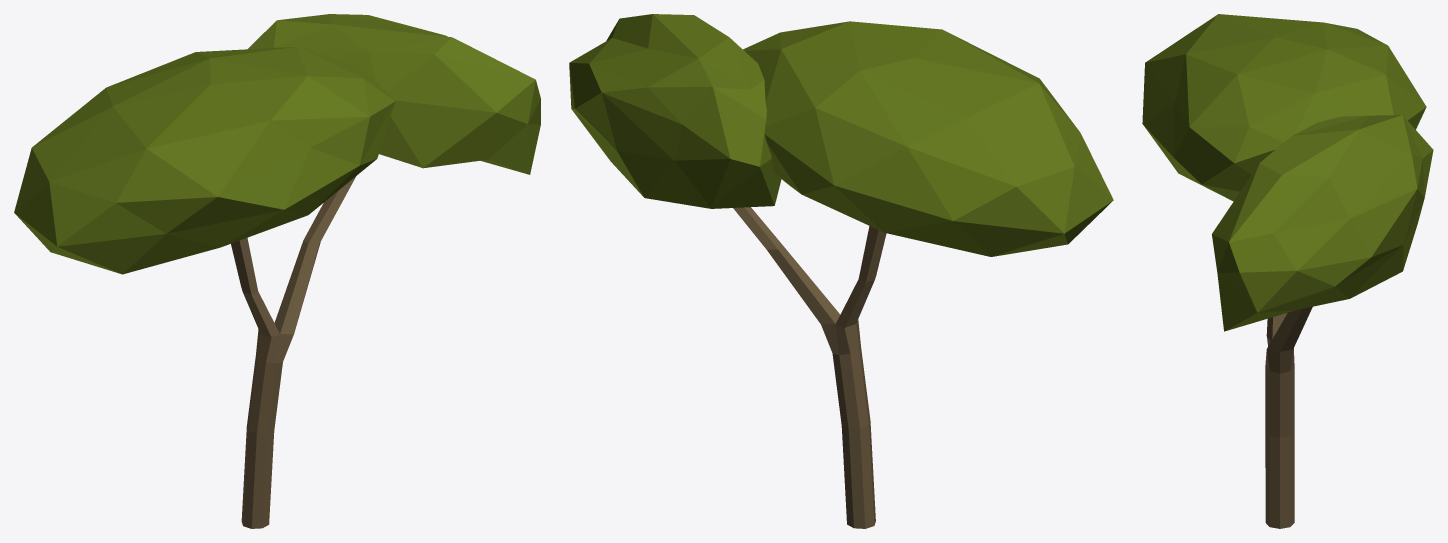
Rendered from roman_tree_pine_1.fbx.
3 views of the same model, side by side, from view 1: azimuth 30°, elevation 25°; view 2: azimuth 150°, elevation 25°; view 3: azimuth 270°, elevation 25° (orthographic). The views are drawn at different scales.
Visible parts, largest first — view 1: Cylinder; view 2: Cylinder; view 3: Cylinder.
Boxes of the visible parts, x1,y1,x2,y2 form: Cylinder: (14, 14, 540, 528); Cylinder: (569, 14, 1113, 528); Cylinder: (1142, 14, 1433, 528).
Size of the model in its own units: 7.2 by 6.34 by 3.6.
